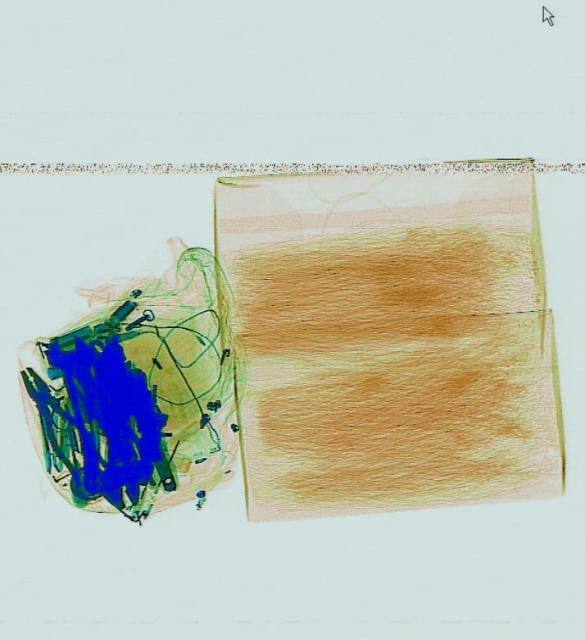Pliers: (5, 356, 115, 492)
Wrench: (38, 322, 145, 464)
